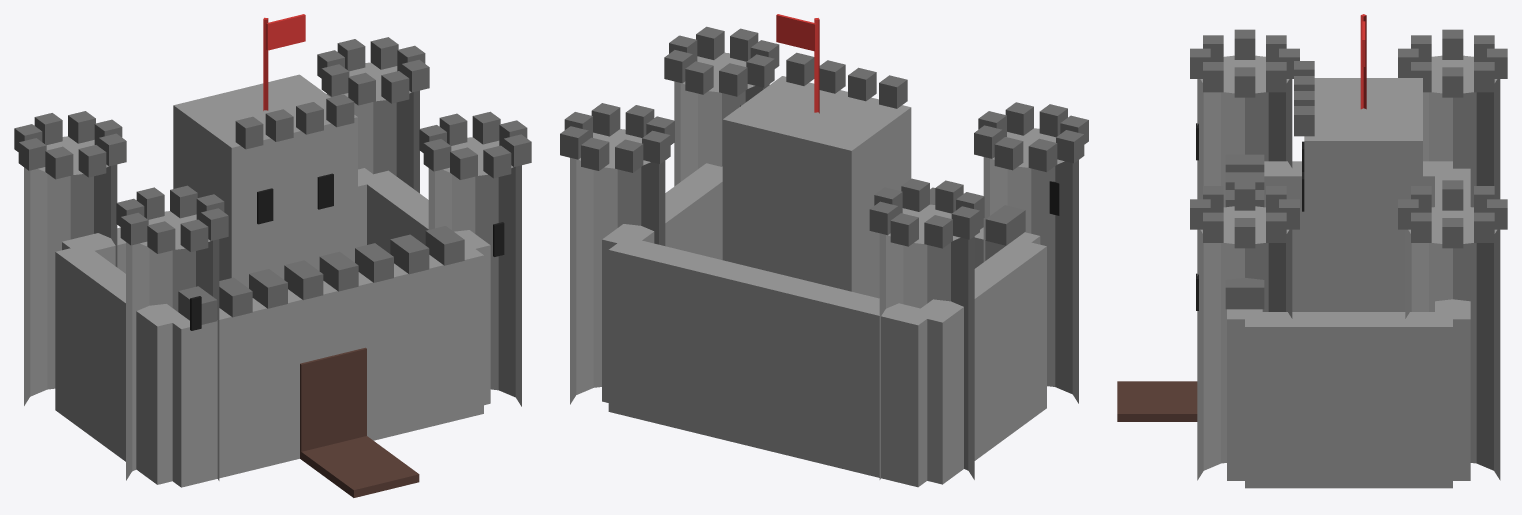
The model's file is borg.glb.
3 renders of one model, left to right at view 1: azimuth 30°, elevation 25°; view 2: azimuth 150°, elevation 25°; view 3: azimuth 270°, elevation 25°, orthographic. The views are drawn at different scales.
Parts seen in each view (by area): view 1: borg; view 2: borg; view 3: borg.
Boxes of the visible parts, x1=… form: borg: x1=14, y1=14, x2=531, y2=497; borg: x1=560, y1=14, x2=1088, y2=487; borg: x1=1117, y1=14, x2=1507, y2=488.
Bounding box in the file's own units: 1.57 × 1.45 × 1.32.
